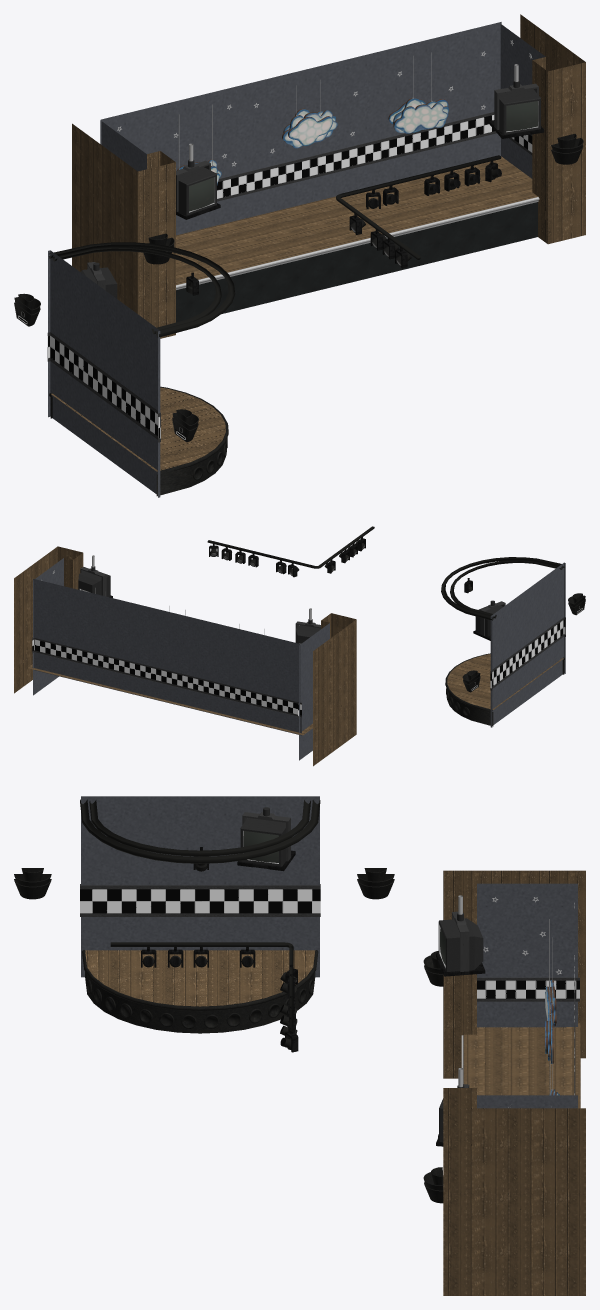
The model's file is FNaF1GameStage.fbx.
3 views of the same model, one above another, from view 1: azimuth 30°, elevation 25°; view 2: azimuth 150°, elevation 25°; view 3: azimuth 270°, elevation 25° (orthographic). The views are drawn at different scales.
Parts seen in each view (by area): view 1: Circle.013, NonBaked.004, Circle.050, Circle.018, Circle.069, Circle.087, Circle.022, Circle.015, Circle.014, Circle.086, Circle.017, Circle.002 (+3 smaller); view 2: Circle.013, Circle.050, Circle.018, Circle.069, Circle.086, Circle.022, Circle.017, Circle.015, NonBaked.004, TV.002, Circle.014; view 3: Circle.050, Circle.086, Circle.069, Circle.017, NonBaked.004, Circle.018, Circle.022, Circle.013, Circle.014, TV.002, Circle.021, Circle.020.
Part boxes in pixels (left/top/right/bottom): Circle.013: left=100, top=22, right=547, bottom=243; NonBaked.004: left=176, top=156, right=539, bottom=322; Circle.050: left=47, top=250, right=160, bottom=497; Circle.018: left=72, top=123, right=175, bottom=338; Circle.069: left=48, top=242, right=235, bottom=496; Circle.087: left=548, top=62, right=585, bottom=244; Circle.022: left=186, top=155, right=501, bottom=295; Circle.015: left=489, top=64, right=544, bottom=138; Circle.014: left=176, top=143, right=220, bottom=219; Circle.086: left=520, top=14, right=585, bottom=71; Circle.017: left=100, top=120, right=146, bottom=171; Circle.002: left=551, top=134, right=583, bottom=164; Circle.013: left=32, top=553, right=301, bottom=735; Circle.050: left=490, top=562, right=565, bottom=727; Circle.018: left=313, top=613, right=356, bottom=766; Circle.069: left=441, top=557, right=564, bottom=726; Circle.086: left=14, top=546, right=57, bottom=693; Circle.022: left=207, top=526, right=472, bottom=593; Circle.017: left=298, top=623, right=329, bottom=760; Circle.015: left=78, top=555, right=112, bottom=597; NonBaked.004: left=27, top=664, right=312, bottom=735; TV.002: left=473, top=600, right=505, bottom=640; Circle.014: left=295, top=608, right=320, bottom=644; Circle.050: left=80, top=796, right=320, bottom=977; Circle.086: left=443, top=1108, right=585, bottom=1295; Circle.069: left=80, top=799, right=320, bottom=1033; Circle.017: left=477, top=883, right=579, bottom=1027; NonBaked.004: left=461, top=1023, right=580, bottom=1108; Circle.018: left=423, top=870, right=585, bottom=1078; Circle.022: left=110, top=847, right=298, bottom=1052; Circle.013: left=443, top=903, right=577, bottom=1108; Circle.014: left=436, top=895, right=485, bottom=976; TV.002: left=237, top=807, right=295, bottom=871; Circle.021: left=14, top=868, right=51, bottom=899; Circle.020: left=357, top=868, right=394, bottom=899.
Bounding box in the file's own units: 892 × 257 × 684.
